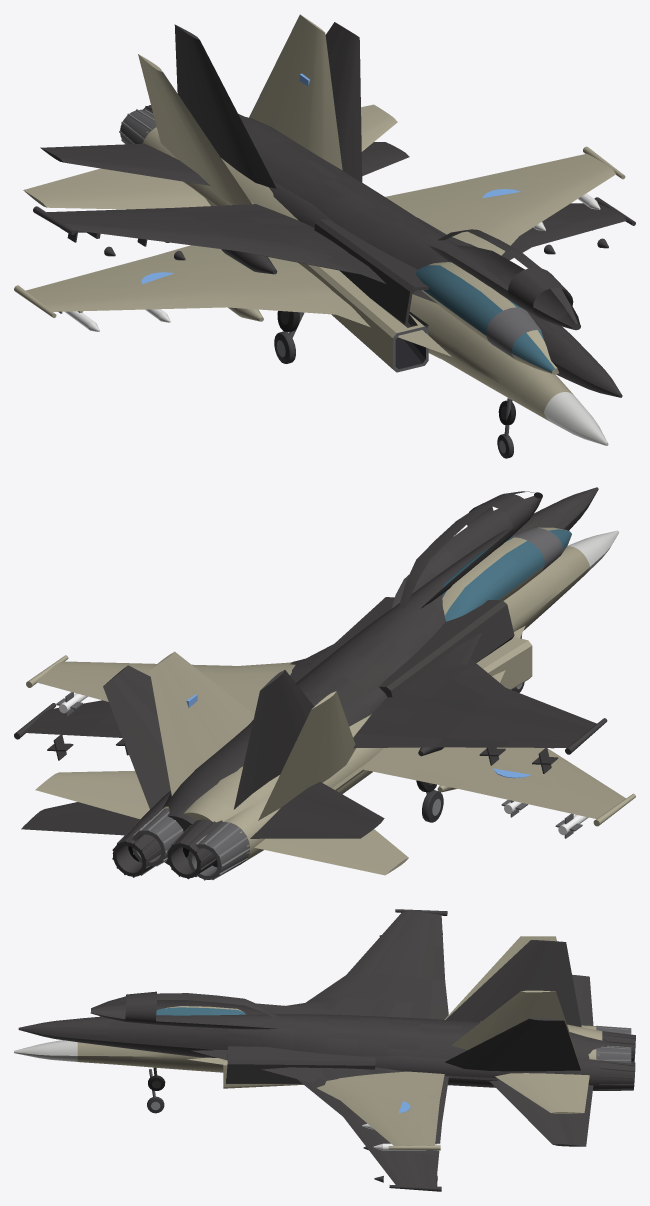
File: carrierJet__carrier_fighter.glb
The picture shows the model from 3 angles, top to bottom: view 1: azimuth 30°, elevation 25°; view 2: azimuth 150°, elevation 25°; view 3: azimuth 270°, elevation 25°; orthographic projection. The views are drawn at different scales.
Parts seen in each view (by area): view 1: Fuselage_Mesh, Wreck; view 2: Wreck, Fuselage_Mesh; view 3: Wreck, Fuselage_Mesh.
Part boxes in pixels (x1,y1,x2,y2): Fuselage_Mesh: (14,14,625,458); Wreck: (33,22,635,424); Wreck: (14,487,607,879); Fuselage_Mesh: (26,527,635,880); Wreck: (18,909,635,1191); Fuselage_Mesh: (14,936,631,1154).
Size of what is drawn, in the model's own units: 14.04 by 5.25 by 18.48.
